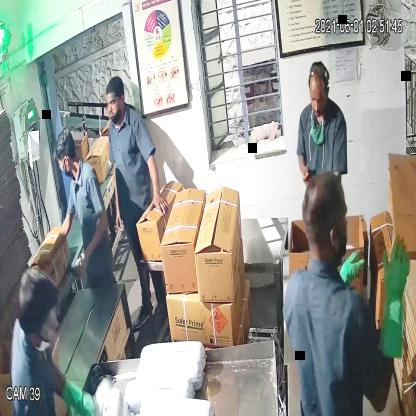no_goggles: (101, 92, 129, 114), (307, 87, 332, 106)
